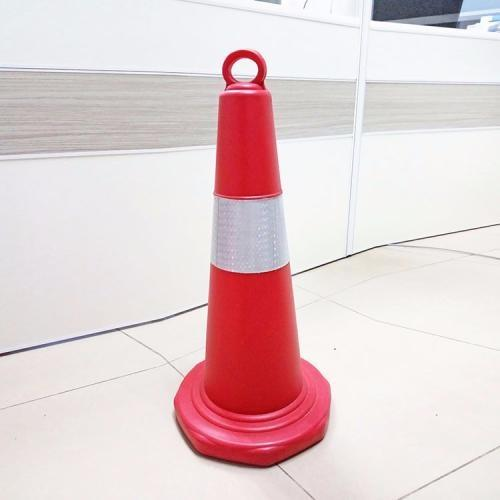cone_barrel: (175, 47, 326, 453)
